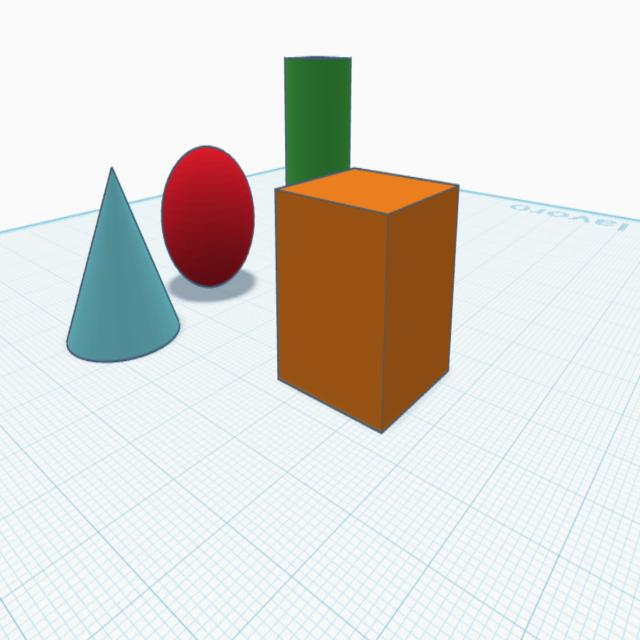cone: (60, 157, 184, 367)
cube: (268, 164, 462, 439)
sphere: (156, 138, 258, 294)
